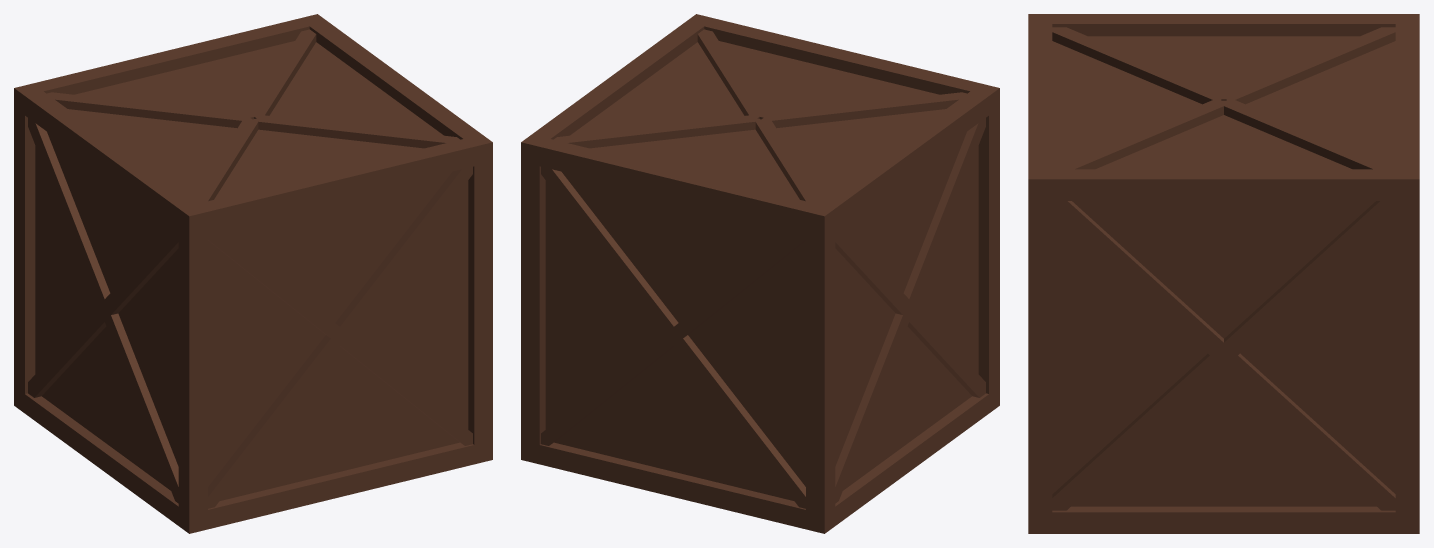
The picture shows the model from 3 angles, left to right: view 1: azimuth 30°, elevation 25°; view 2: azimuth 150°, elevation 25°; view 3: azimuth 270°, elevation 25°; orthographic projection. The views are drawn at different scales.
Parts seen in each view (by area): view 1: Cube; view 2: Cube; view 3: Cube.
Boxes of the visible parts, x1,y1,x2,y2 form: Cube: [14, 14, 492, 533]; Cube: [521, 14, 999, 533]; Cube: [1028, 14, 1419, 533].
Size of the model in its own units: 85.18 by 85.18 by 85.18.
